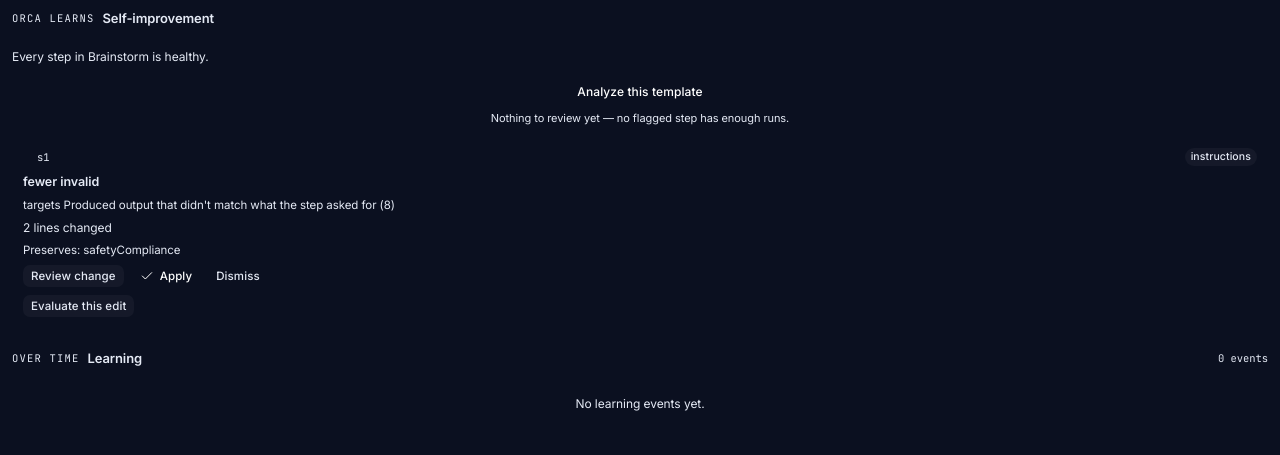
Test case: SelfImprovementRail › shows error message when applyProposal rejects
Click the button "Apply": (165, 276) [130,266,201,288]
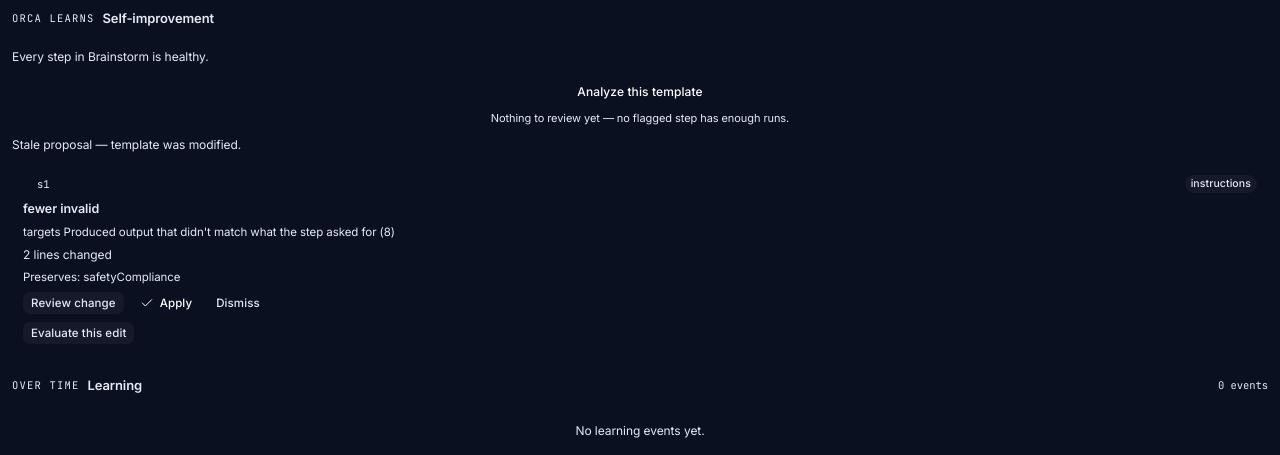
Check: the text "Stale proposal — template was modified." is shown, box [12,137,241,152]
